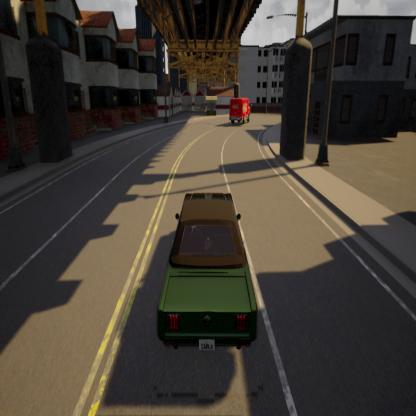Cars: (158, 152, 267, 374), (226, 89, 265, 142)
